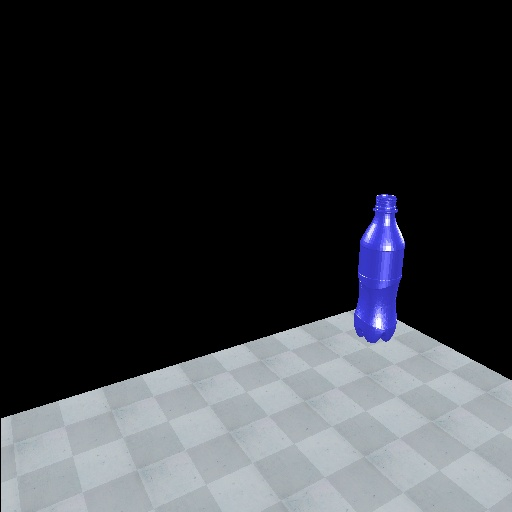bottle: (351, 190, 408, 346)
